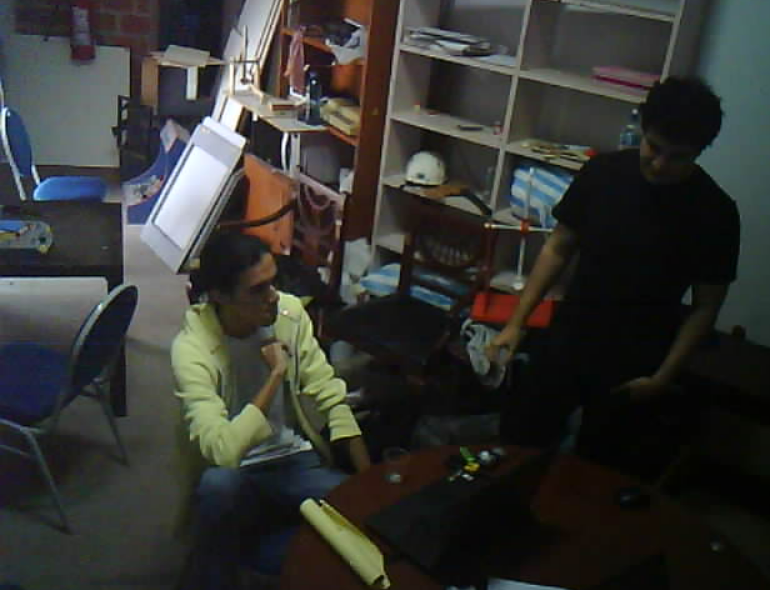person: (480, 18, 743, 533), (144, 202, 382, 590)
